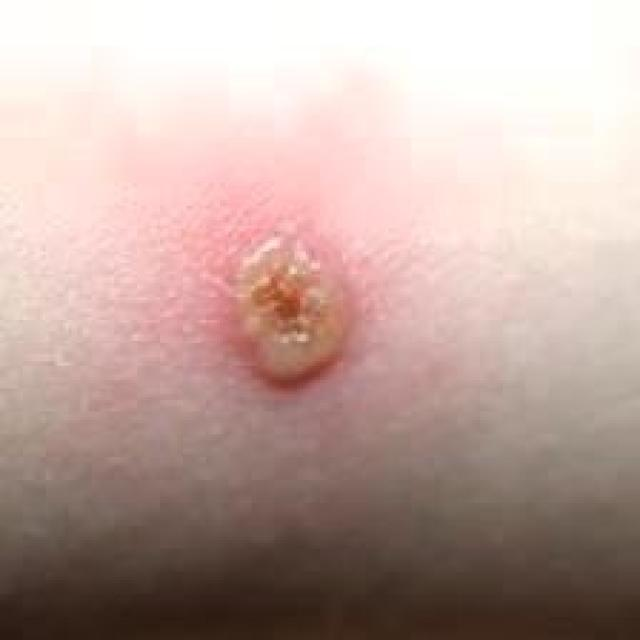others: (109, 138, 540, 540)
